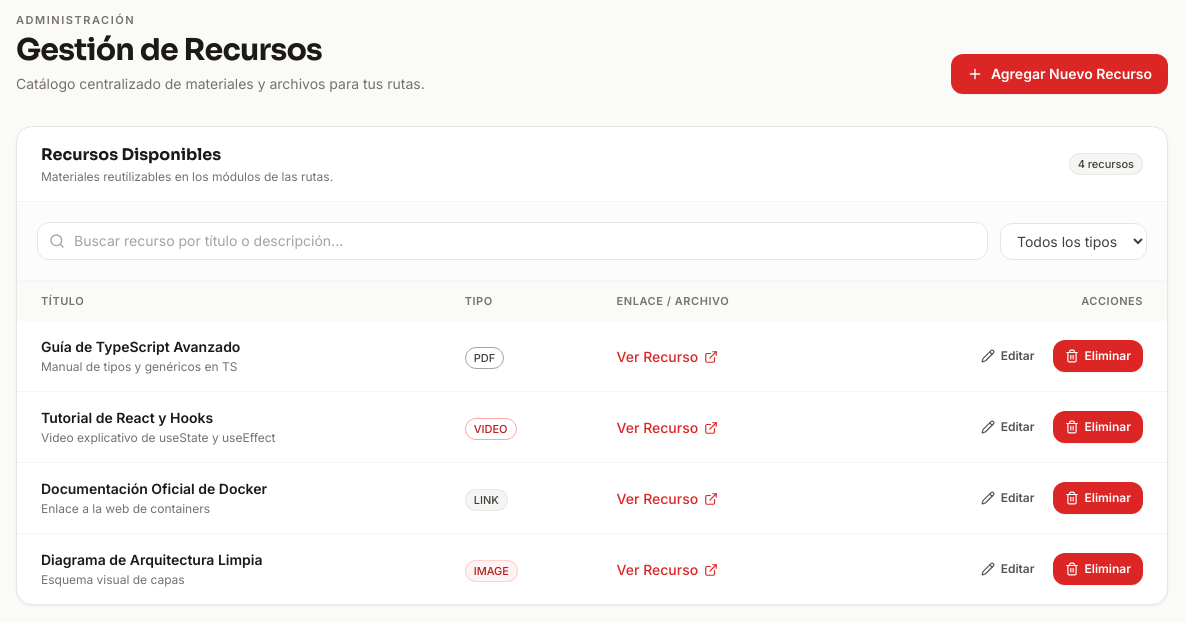
Test: ResourcesManager — Búsqueda y Filtros › filtra recursos por tipo seleccionado en el dropdown
The width and height of the screenshot is (1185, 623).
expect the text "Guía de TypeScript Avanzado" is shown: met, box top-left (41, 338), bottom-right (240, 355)
Select "Video" in the dropdown named "Filtrar por tipo" at coordinates (1074, 241), box top-left (1000, 222), bottom-right (1147, 260)
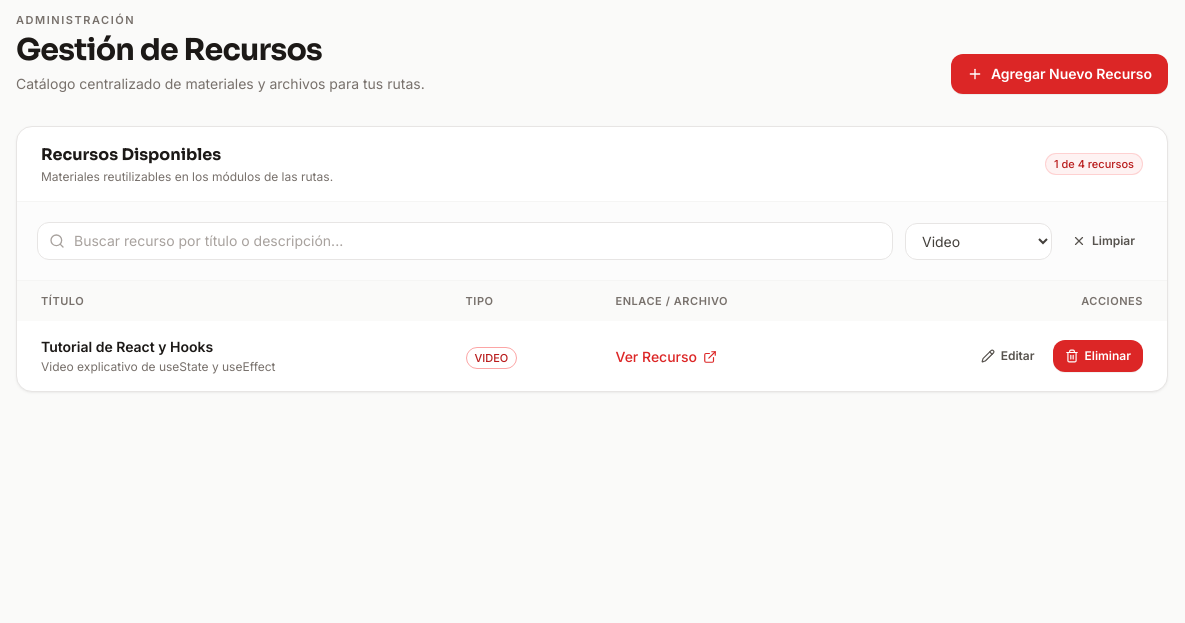
expect the text "Tutorial de React y Hooks" is shown: met, box top-left (41, 338), bottom-right (213, 355)
expect the text "Guía de TypeScript Avanzado" is gone: met
expect the text "1 de 4 recursos" is shown: met, box top-left (1045, 153), bottom-right (1143, 175)
